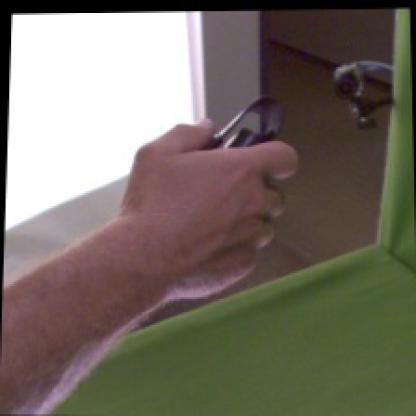Hand: (121, 117, 301, 301)
